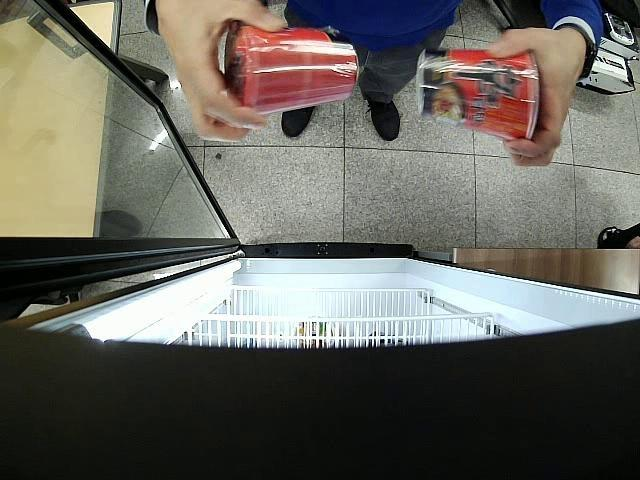02_shinRamen_S: (416, 48, 539, 140), (225, 26, 358, 108)
